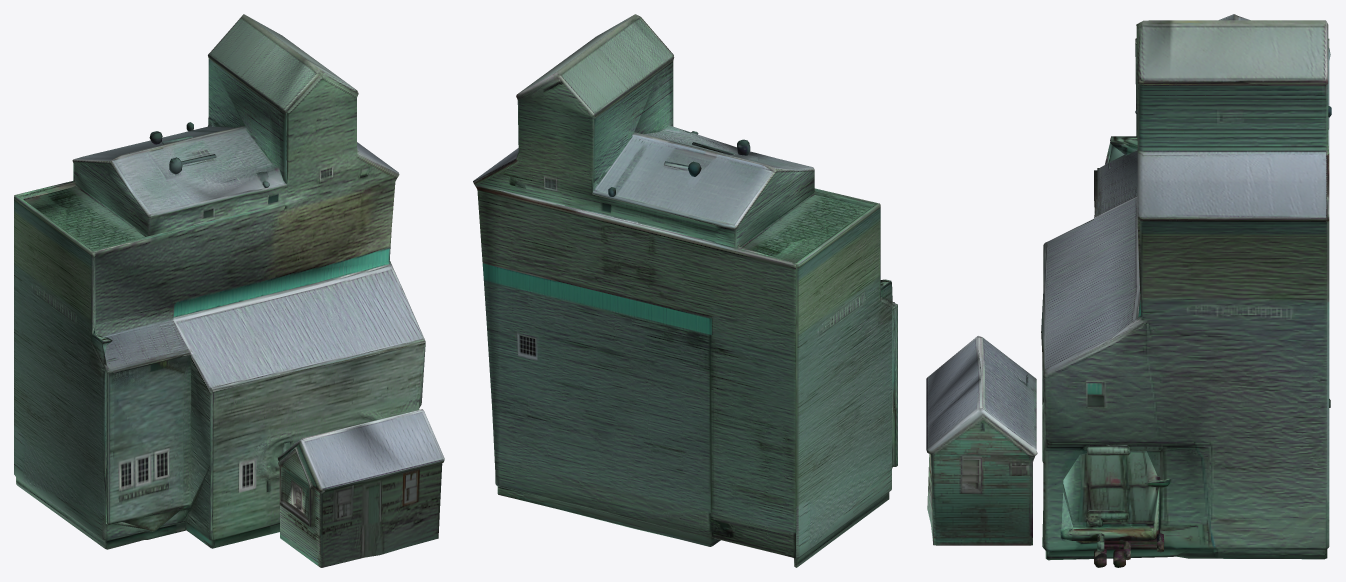
The model's file is Weathered_Green_Grain_0621170905_texture.glb.
The picture shows the model from 3 angles, left to right: view 1: azimuth 30°, elevation 25°; view 2: azimuth 150°, elevation 25°; view 3: azimuth 270°, elevation 25°; orthographic projection. The views are drawn at different scales.
Parts seen in each view (by area): view 1: Mesh_0; view 2: Mesh_0; view 3: Mesh_0.
Part boxes in pixels (<box>): Mesh_0: <box>14,14,444,567</box>; Mesh_0: <box>473,14,897,567</box>; Mesh_0: <box>926,14,1331,567</box>.
Bounding box in the file's own units: 17.26 × 21.34 × 15.47.
1 material, 1 textured.
